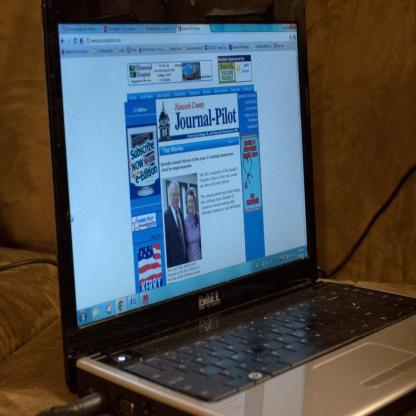board: (41, 1, 416, 416)
